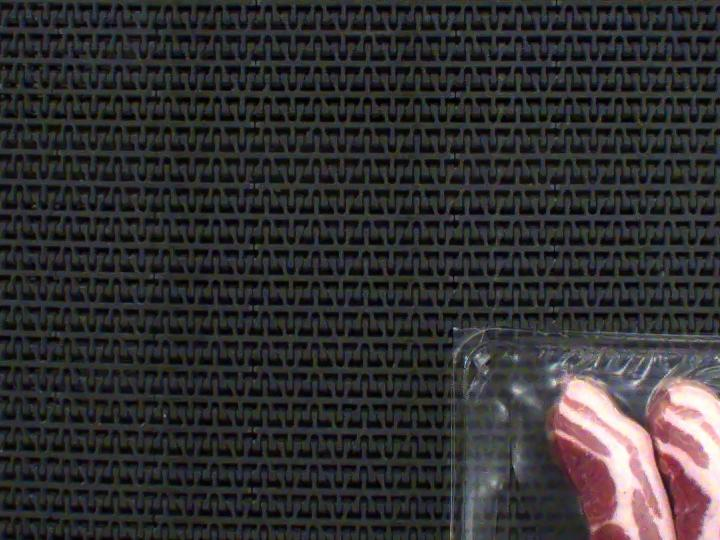unsealed: (472, 345, 720, 540)
